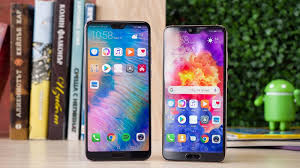huawei: (79, 19, 153, 162), (162, 22, 227, 164)
